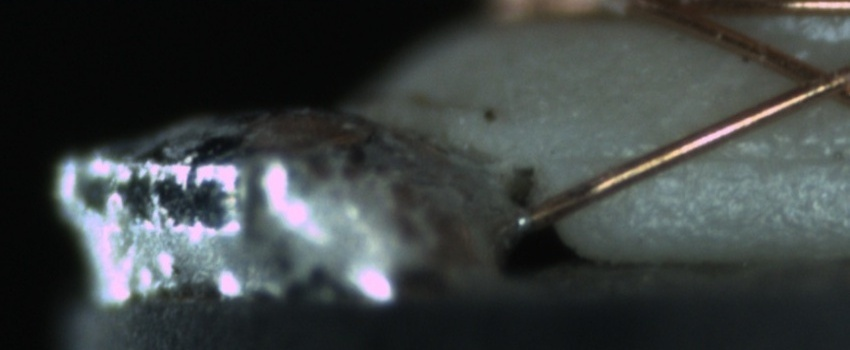CL: (770, 52, 849, 111)
DL: (601, 124, 849, 190)
